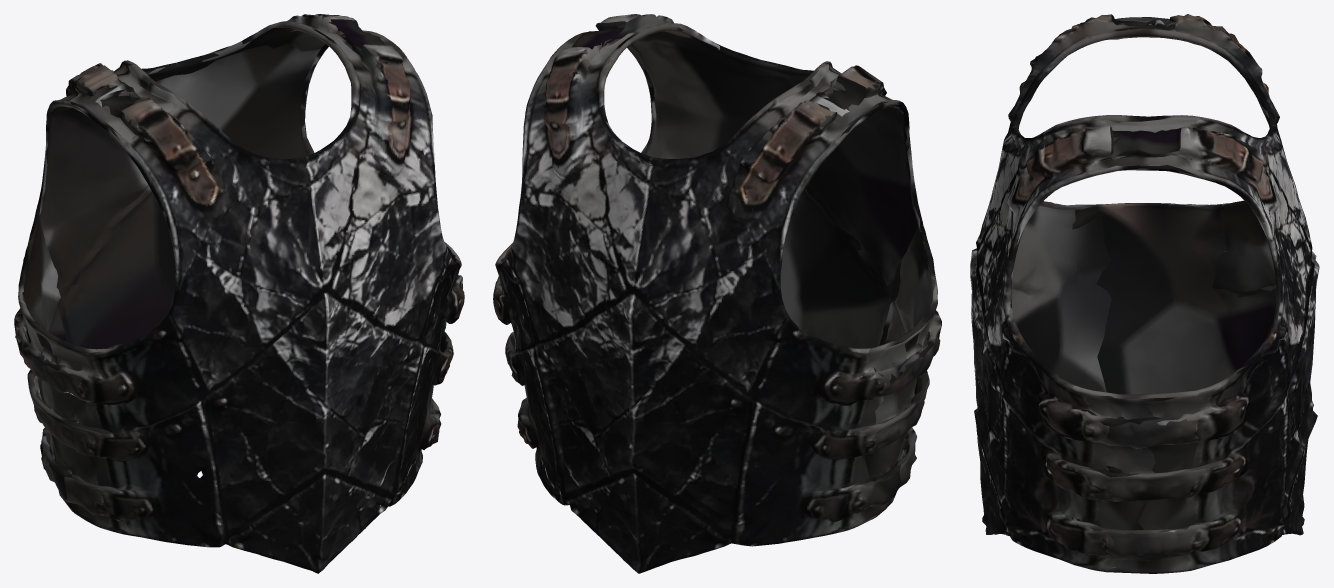
File: pyre_obsidian_chest.glb
3 views of the same model, side by side, from view 1: azimuth 30°, elevation 25°; view 2: azimuth 150°, elevation 25°; view 3: azimuth 270°, elevation 25° (orthographic).
Parts seen in each view (by area): view 1: geometry_0; view 2: geometry_0; view 3: geometry_0.
Part boxes in pixels (<box>): geometry_0: <box>14,14,464,573</box>; geometry_0: <box>493,14,941,573</box>; geometry_0: <box>970,14,1319,573</box>.
Bounding box in the file's own units: 0.5018 × 0.5404 × 0.3697.
1 material, 1 textured.
